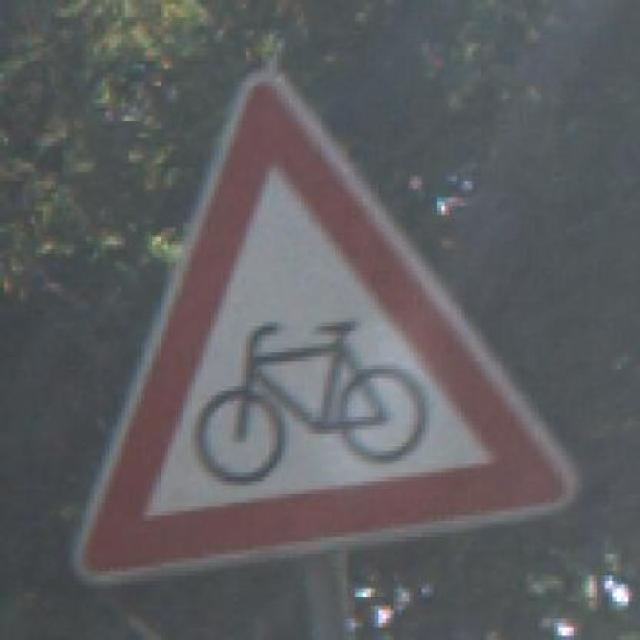CYCLE ROUTE AHEAD WARNING: (66, 60, 582, 585)
